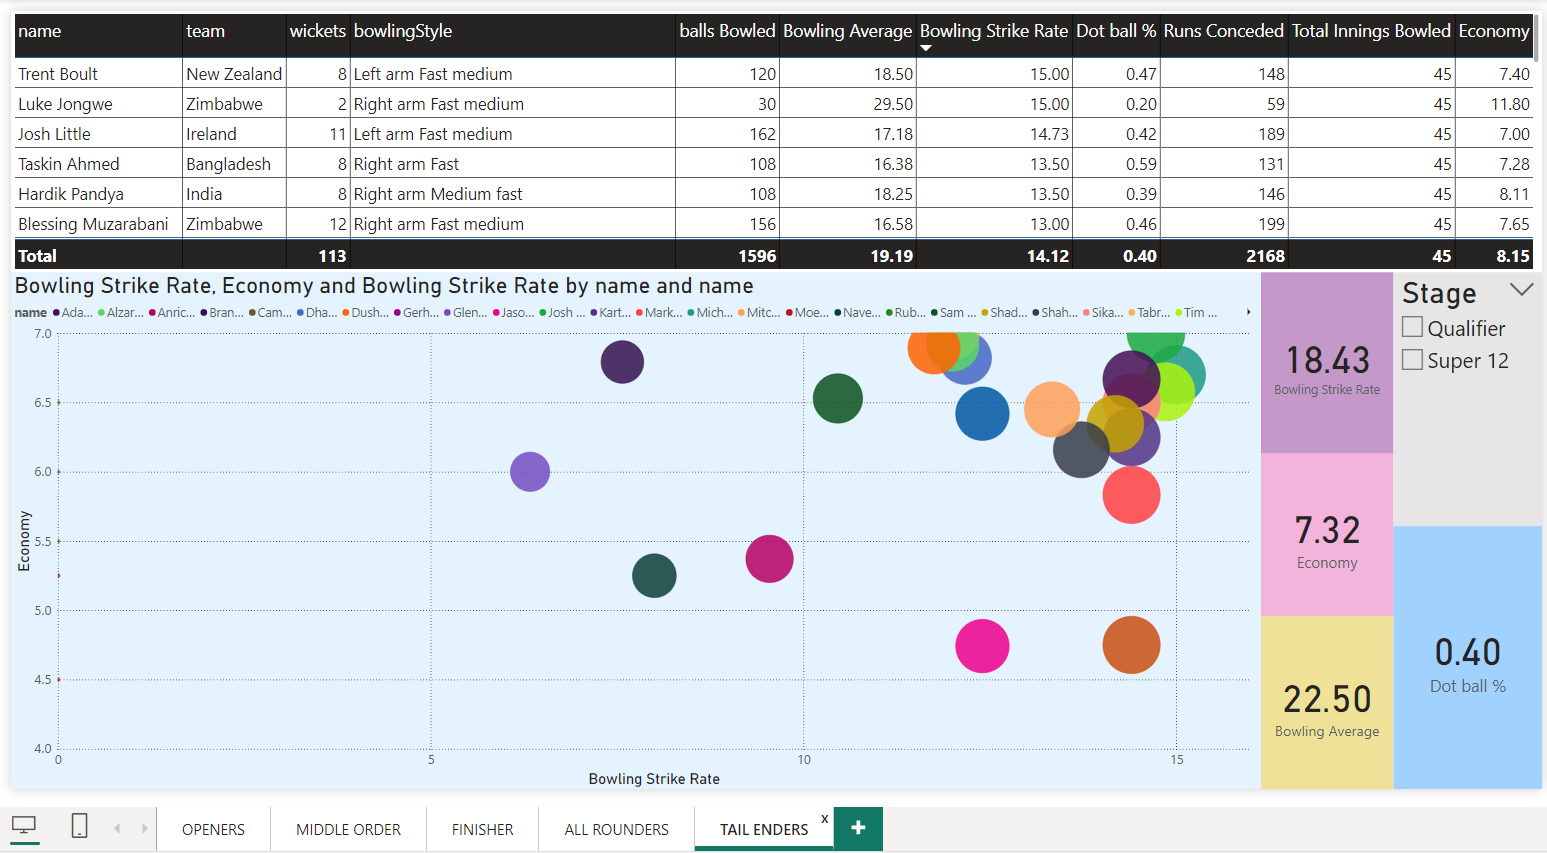

The dashboard page shown, as its layout file describes it:
{"tool":"powerbi","page":{"name":"TAIL ENDERS","canvas":[2450,1245],"ordinal":4},"visuals":[{"type":"tableEx","fields":{"Values":["player summary.name","player summary.team","Key Measure.wickets","player summary.bowlingStyle","Key Measure.balls Bowled","Key Measure.Bowling Average","Key Measure.Bowling Strike Rate","Key Measure.Dot ball %","Key Measure.Runs Conceded","Key Measure.Total Innings Bowled","Key Measure.Economy"]},"box":[0,0,2450,418],"z":0},{"type":"scatterChart","fields":{"Category":["player summary.name"],"Size":["Key Measure.Bowling Strike Rate"],"X":["Key Measure.Bowling Strike Rate"],"Y":["Key Measure.Economy"],"Series":["player summary.name"]},"box":[0,418,2000,828],"z":1000},{"type":"card","fields":{"Values":["Key Measure.Bowling Strike Rate"]},"box":[2000,418,212,290],"z":2000},{"type":"card","fields":{"Values":["Key Measure.Bowling Average"]},"box":[2000,968,212,278],"z":3000},{"type":"card","fields":{"Values":["Key Measure.Economy"]},"box":[2000,708,212,260],"z":4000},{"type":"card","fields":{"Values":["Key Measure.Dot ball %"]},"box":[2212,824,238,422],"z":5000},{"type":"slicer","fields":{"Values":["match summary.Stage"]},"box":[2212,418,238,406],"z":6000}]}

Visuals, with their boxes on the page's 2450x1245 design canvas (x1, y1, x2, y2). These are canvas units, not pixel positions in the 1547x853 screenshot, which may show the page scaled, cropped or inside an application window:
tableEx - player summary.name x player summary.team: x1=0, y1=0, x2=2450, y2=418
scatterChart - player summary.name x Key Measure.Bowling Strike Rate: x1=0, y1=418, x2=2000, y2=1246
card - Key Measure.Bowling Strike Rate: x1=2000, y1=418, x2=2212, y2=708
card - Key Measure.Bowling Average: x1=2000, y1=968, x2=2212, y2=1246
card - Key Measure.Economy: x1=2000, y1=708, x2=2212, y2=968
card - Key Measure.Dot ball %: x1=2212, y1=824, x2=2450, y2=1246
slicer - match summary.Stage: x1=2212, y1=418, x2=2450, y2=824
